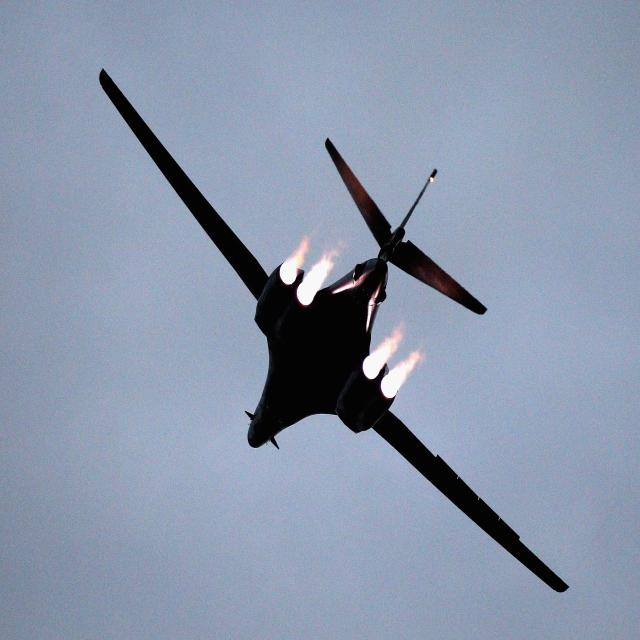MIL_Plane: (92, 71, 562, 590)
